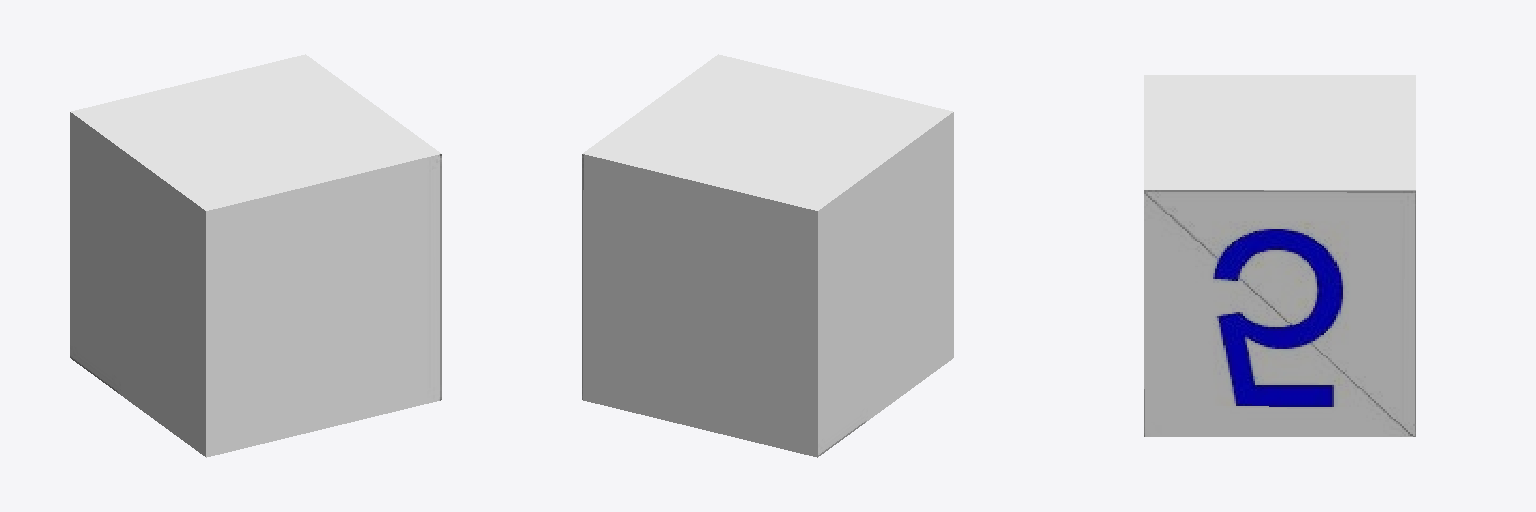
3 renders of one model, left to right at view 1: azimuth 30°, elevation 25°; view 2: azimuth 150°, elevation 25°; view 3: azimuth 270°, elevation 25°, orthographic.
Visible parts, largest first — view 1: default; view 2: default; view 3: default.
Boxes of the visible parts, x1,y1,x2,y2 form: default: [70, 54, 441, 457]; default: [582, 54, 953, 457]; default: [1144, 75, 1415, 436].
Bounding box in the file's own units: 2 × 2 × 2.
1 materials, 1 textured.